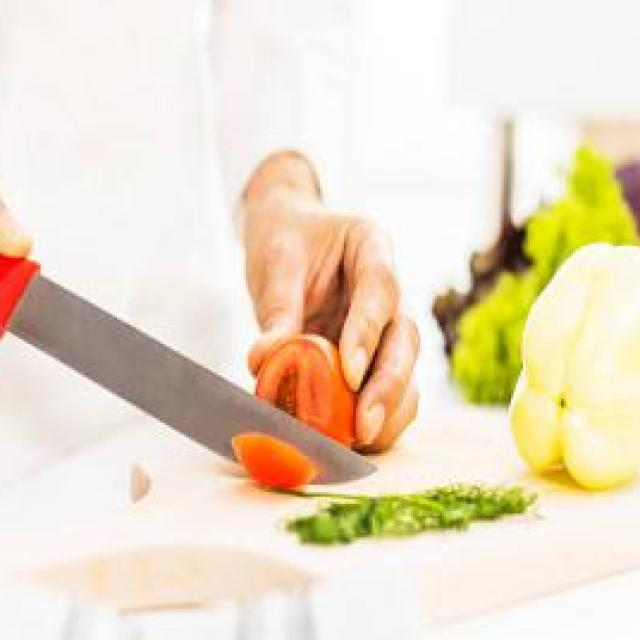knife: (0, 205, 380, 488)
